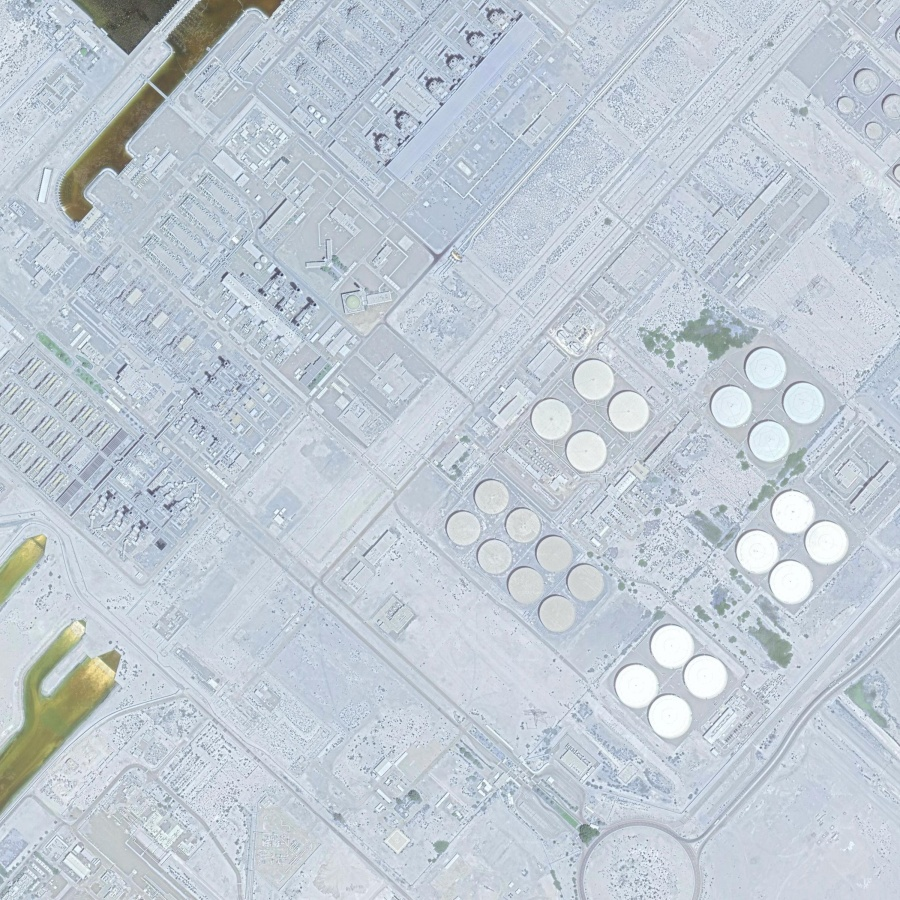PowerPlant: (436, 298, 886, 758)
